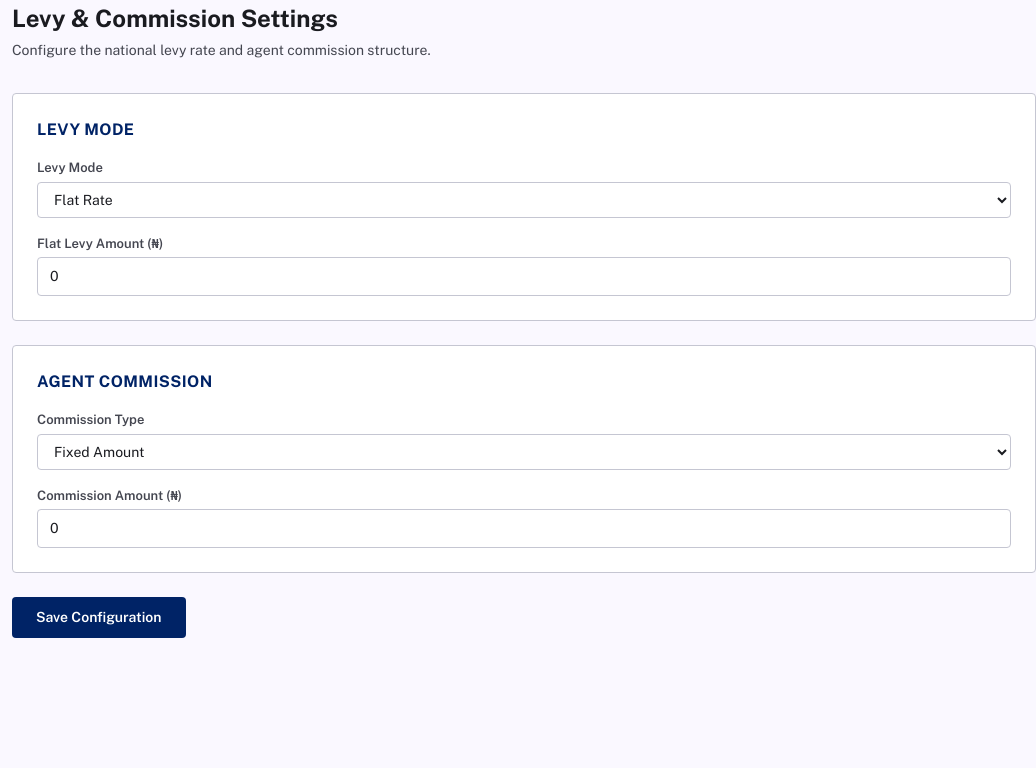
Test: AC-07: Success banner shown after successful save › shows "Settings saved successfully." after a successful save
Click the button "Save Configuration": (99, 618) [12,597,186,638]
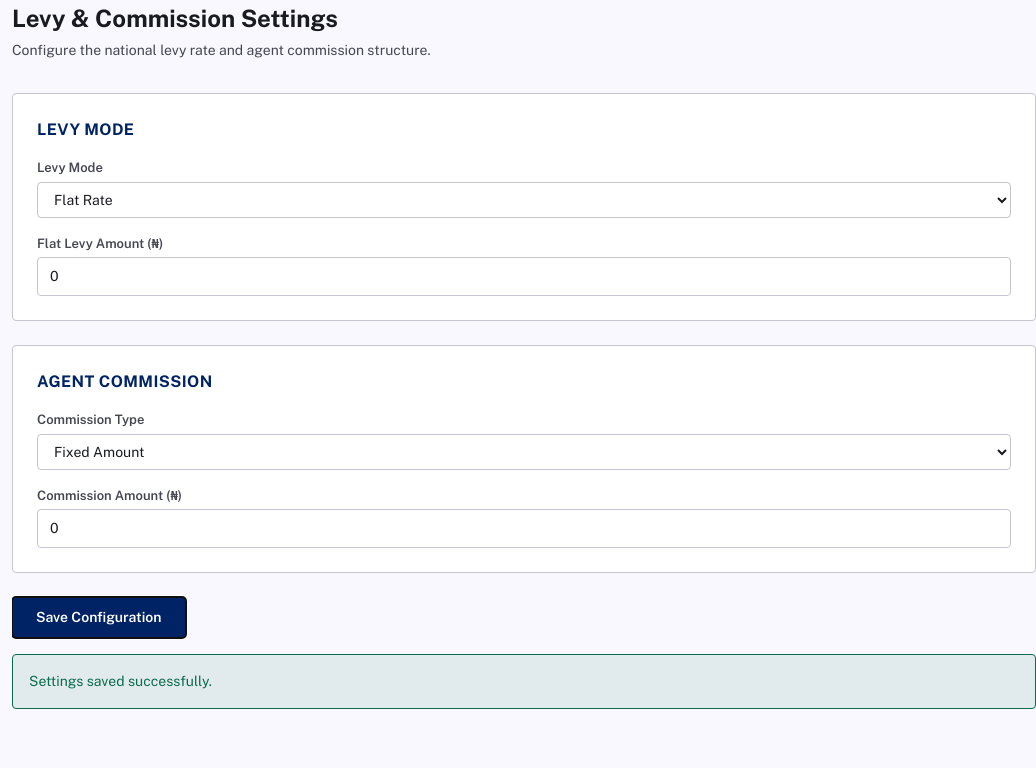
Expected: the text "Settings saved successfully." is shown, [12,654,1035,709]
